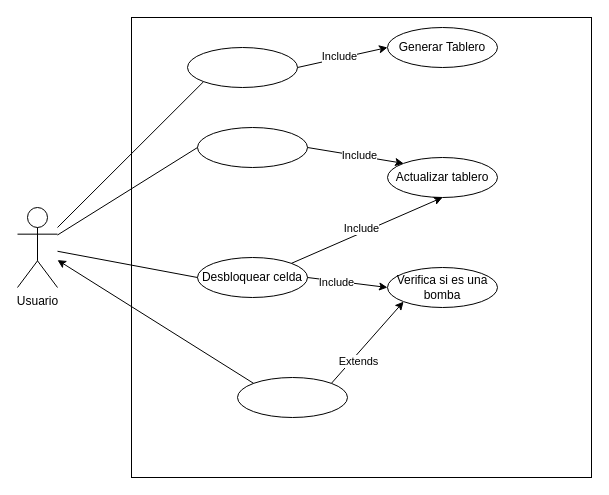
The diagram is 609 pixels wide and 495 high, and some of its shapes have lost their labels. The box of each missing label's shape, as (x1, y1, x2, y2) in pixels:
Iniciar Juego: (186, 46, 298, 88)
Marcar Celda: (196, 126, 308, 168)
Termina el juego: (236, 376, 348, 418)
